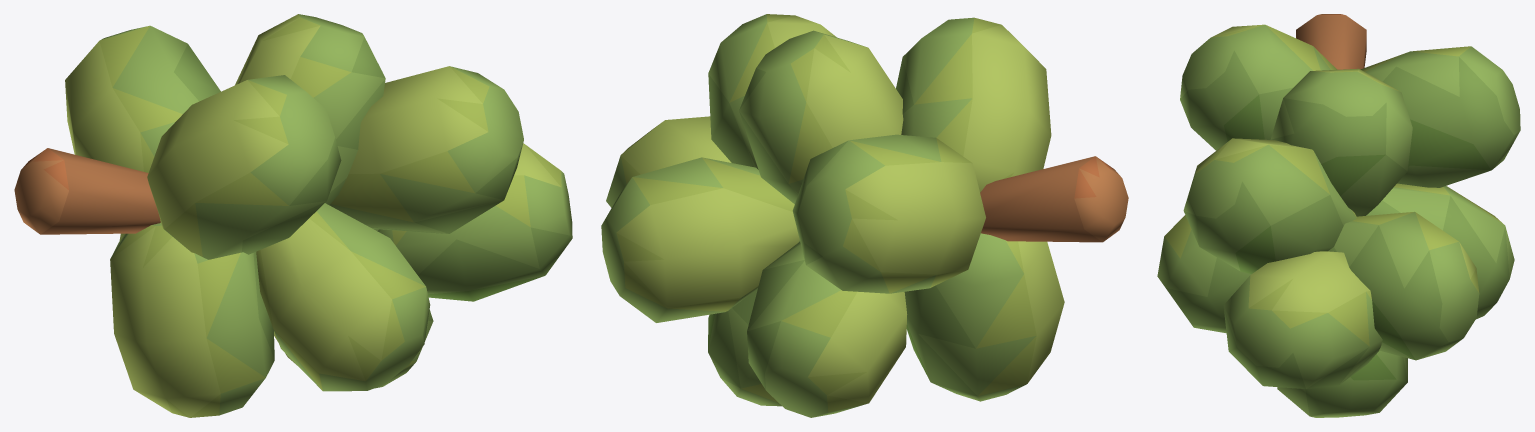
Rendered from itch_tiny_pleasant_picnic_grapes.glb.
3 views of the same model, side by side, from view 1: azimuth 30°, elevation 25°; view 2: azimuth 150°, elevation 25°; view 3: azimuth 270°, elevation 25° (orthographic). The views are drawn at different scales.
Visible parts, largest first — view 1: grapes; view 2: grapes; view 3: grapes.
Boxes of the visible parts, <box> form: grapes: <box>14,14,572,417</box>; grapes: <box>601,14,1128,417</box>; grapes: <box>1157,14,1520,417</box>.
Size of the model in its own units: 0.42 by 0.2863 by 0.2874.
